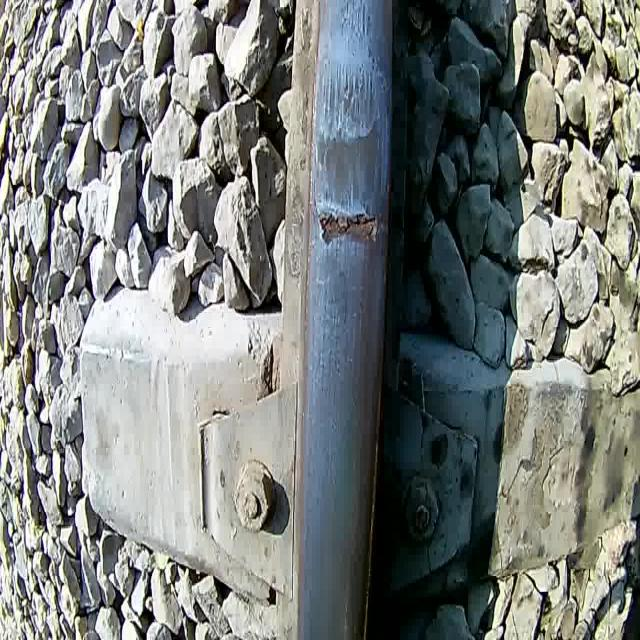Spallings: (308, 206, 391, 252)
Squats: (306, 66, 386, 211), (334, 0, 379, 64)
